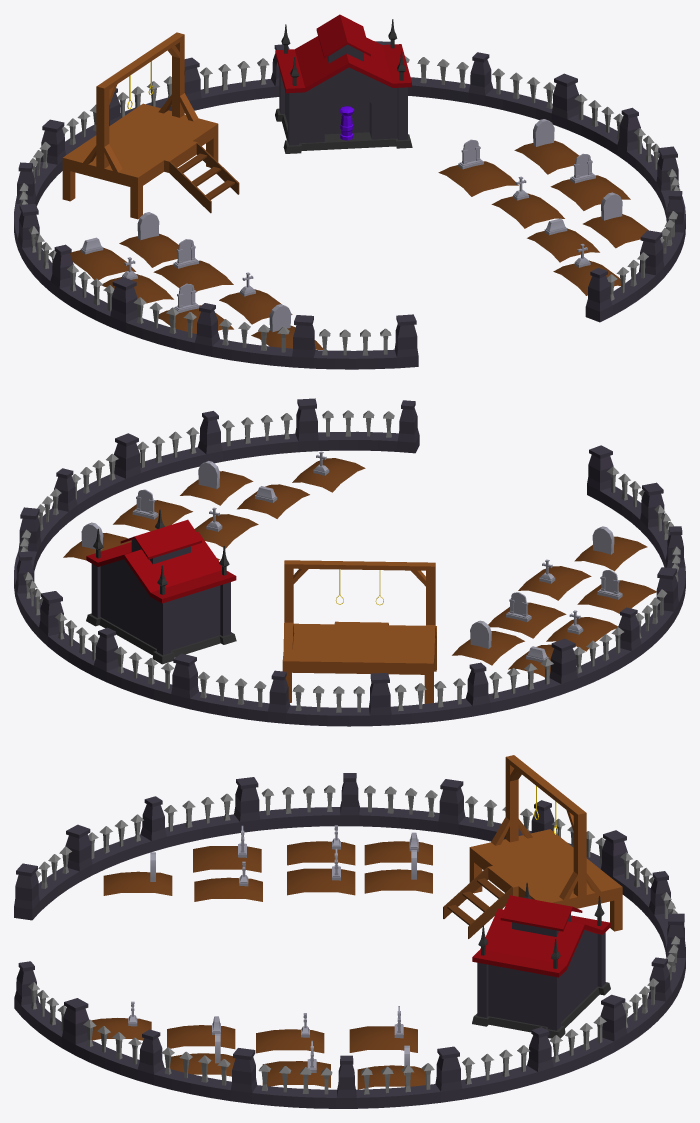
File: graveyard.fbx
3 renders of one model, top to bottom at view 1: azimuth 30°, elevation 25°; view 2: azimuth 150°, elevation 25°; view 3: azimuth 270°, elevation 25°, orthographic. The views are drawn at different scales.
Parts seen in each view (by area): view 1: fence.001, Cube.005, KYS, tombstone 4.002, tombstone 4.003, tombstone 4, tombstone 1.002, tombstone 1.003, tombstone 1, tombstone 3 .002, tombstone 2.002, tombstone 2 (+5 smaller); view 2: fence.001, Cube.005, KYS, tombstone 4, tombstone 4.004, tombstone 4.003, tombstone 1.004, tombstone 1.003, tombstone 1, tombstone 3 .004, tombstone 3 .003, tombstone 2.002 (+4 smaller); view 3: fence.001, Cube.005, KYS, tombstone 4, tombstone 4.004, tombstone 4.002, tombstone 1.004, tombstone 1, tombstone 3 .004, tombstone 3 .002, tombstone 3, tombstone 2 (+5 smaller).
Part boxes in pixels (bbox=[...]): fence.001: bbox=[14, 41, 685, 369]; Cube.005: bbox=[275, 14, 412, 153]; KYS: bbox=[62, 32, 239, 219]; tombstone 4.002: bbox=[438, 139, 518, 196]; tombstone 4.003: bbox=[550, 153, 630, 210]; tombstone 4: bbox=[153, 239, 233, 291]; tombstone 1.002: bbox=[514, 119, 579, 174]; tombstone 1.003: bbox=[583, 192, 648, 248]; tombstone 1: bbox=[119, 212, 178, 267]; tombstone 3 .002: bbox=[491, 176, 564, 228]; tombstone 2.002: bbox=[527, 218, 599, 262]; tombstone 2: bbox=[70, 237, 135, 279]; fence.001: bbox=[14, 398, 685, 726]; Cube.005: bbox=[86, 509, 236, 664]; KYS: bbox=[282, 560, 436, 703]; tombstone 4: bbox=[488, 592, 566, 638]; tombstone 4.004: bbox=[577, 570, 656, 613]; tombstone 4.003: bbox=[113, 489, 192, 531]; tombstone 1.004: bbox=[574, 526, 647, 571]; tombstone 1.003: bbox=[180, 461, 253, 505]; tombstone 1: bbox=[452, 620, 524, 665]; tombstone 3 .004: bbox=[518, 559, 591, 600]; tombstone 3 .003: bbox=[292, 451, 365, 492]; tombstone 2.002: bbox=[237, 484, 309, 518]; fence.001: bbox=[14, 773, 685, 1108]; Cube.005: bbox=[472, 882, 610, 1038]; KYS: bbox=[443, 755, 622, 938]; tombstone 4: bbox=[287, 848, 355, 895]; tombstone 4.004: bbox=[193, 825, 261, 872]; tombstone 4.002: bbox=[349, 1006, 417, 1052]; tombstone 1.004: bbox=[103, 852, 172, 895]; tombstone 1: bbox=[364, 850, 432, 893]; tombstone 3 .004: bbox=[194, 861, 262, 901]; tombstone 3 .002: bbox=[256, 1013, 324, 1053]; tombstone 3: bbox=[287, 825, 355, 865]; tombstone 2: bbox=[364, 832, 432, 865].
Bounding box in the file's own units: 20.76 × 4.22 × 20.26.
